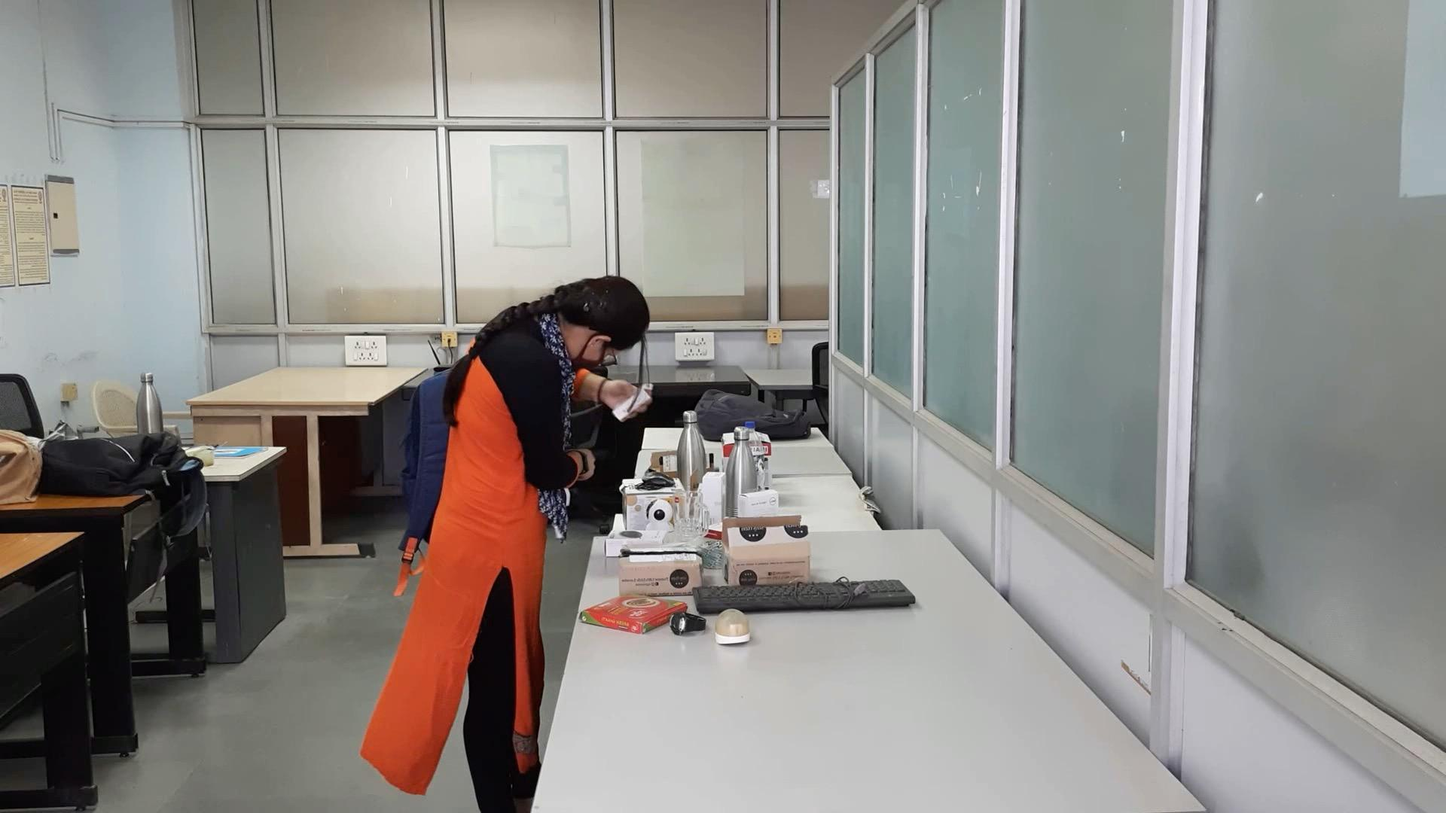shoplifting: (524, 371, 664, 495)
